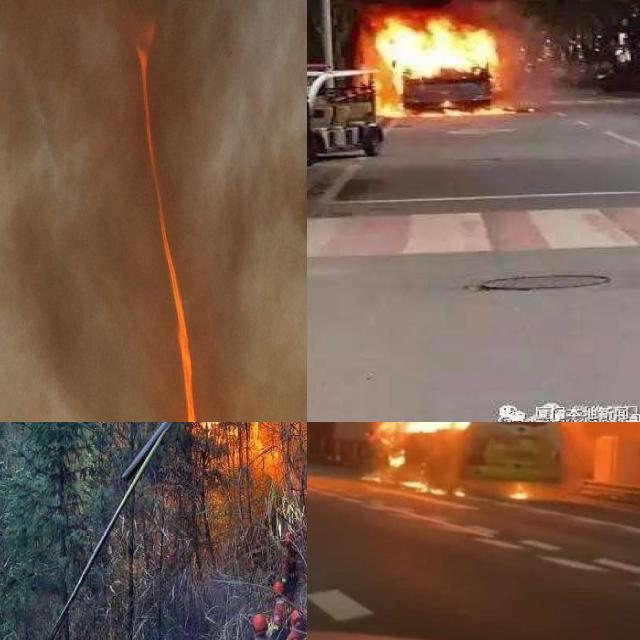fire: (130, 30, 206, 422), (371, 4, 514, 118), (376, 422, 596, 494), (187, 422, 307, 505)
smoke: (0, 0, 307, 422)
